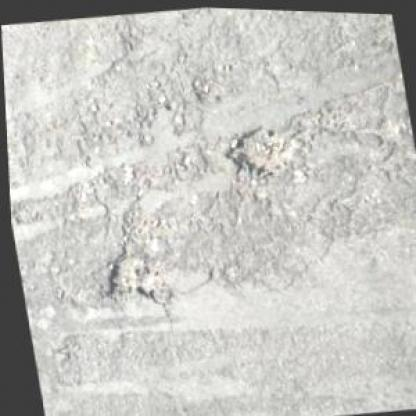pothole: (218, 116, 295, 180), (94, 244, 166, 307)
